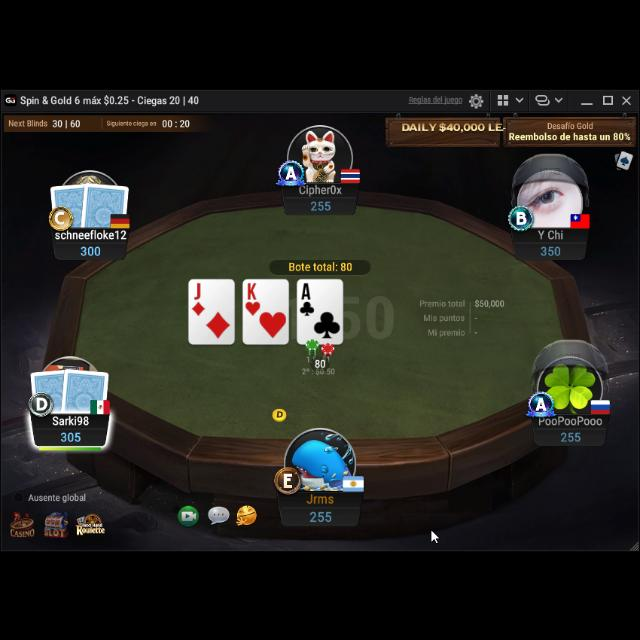Ac: (298, 278, 316, 314)
Jd: (191, 280, 207, 316)
Kh: (244, 278, 262, 314)
bet_text: (314, 356, 330, 368), (314, 357, 328, 368)
card_back: (60, 363, 110, 413), (80, 177, 130, 227), (48, 178, 92, 226), (29, 364, 71, 412)
dealer: (270, 404, 288, 421)
pot_text: (288, 258, 354, 270)
stack_text: (538, 241, 562, 255), (59, 426, 83, 440), (308, 506, 332, 520), (560, 427, 582, 441), (310, 196, 332, 210), (80, 241, 102, 255)
